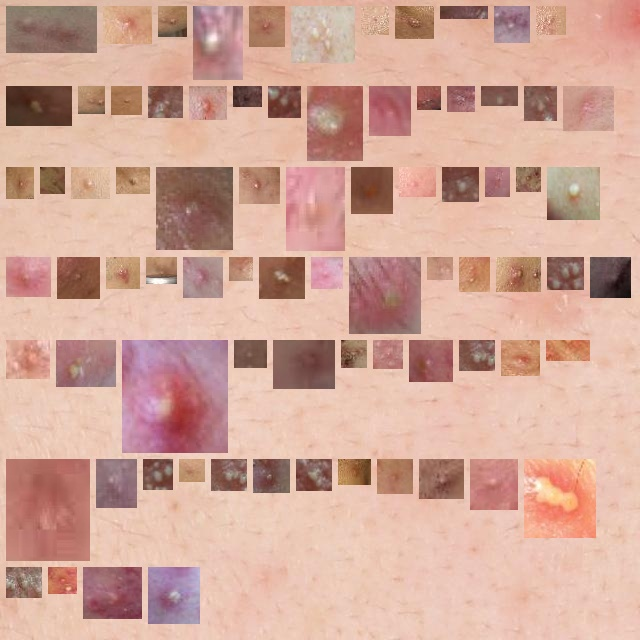pustule: (130, 348, 220, 445), (14, 467, 82, 553), (164, 175, 225, 242), (532, 467, 588, 530), (357, 265, 413, 326), (294, 175, 337, 243), (315, 94, 355, 153), (14, 14, 89, 45), (201, 14, 235, 72), (299, 14, 347, 55), (91, 575, 134, 611), (281, 348, 327, 381), (156, 575, 192, 616), (555, 175, 592, 212), (64, 348, 108, 379), (14, 94, 64, 118), (478, 467, 510, 502), (571, 94, 606, 123), (377, 94, 403, 128), (104, 467, 129, 500), (359, 175, 385, 206), (267, 265, 297, 291), (417, 348, 445, 374), (111, 14, 144, 36), (65, 265, 92, 291), (14, 265, 43, 289), (427, 467, 456, 491), (14, 348, 42, 371), (598, 265, 623, 290), (191, 265, 215, 290), (504, 265, 533, 284), (247, 175, 272, 196), (257, 14, 277, 39), (509, 348, 532, 368), (502, 14, 522, 35), (450, 175, 471, 194), (197, 94, 219, 112), (403, 14, 426, 31), (385, 467, 405, 486), (261, 467, 282, 485), (79, 175, 102, 191), (554, 340, 582, 353), (555, 265, 576, 282), (532, 94, 549, 113), (219, 467, 239, 483), (304, 467, 324, 483), (156, 94, 175, 110), (467, 348, 487, 363), (14, 575, 34, 590), (407, 175, 428, 189), (114, 265, 132, 281), (467, 265, 482, 284), (276, 94, 293, 110), (319, 265, 335, 281), (489, 94, 510, 105), (151, 467, 165, 482), (242, 348, 259, 360), (124, 175, 142, 186), (166, 14, 179, 29), (119, 94, 134, 107), (14, 175, 26, 191), (544, 14, 558, 27), (381, 348, 395, 361), (346, 467, 363, 477), (154, 265, 169, 276), (369, 14, 381, 27), (56, 575, 69, 586), (86, 94, 97, 106), (493, 175, 502, 189), (455, 94, 467, 104), (349, 348, 359, 360), (48, 175, 57, 186), (524, 175, 533, 184), (435, 265, 445, 272), (187, 467, 197, 474), (241, 94, 254, 99), (425, 94, 433, 102), (237, 265, 245, 273)
